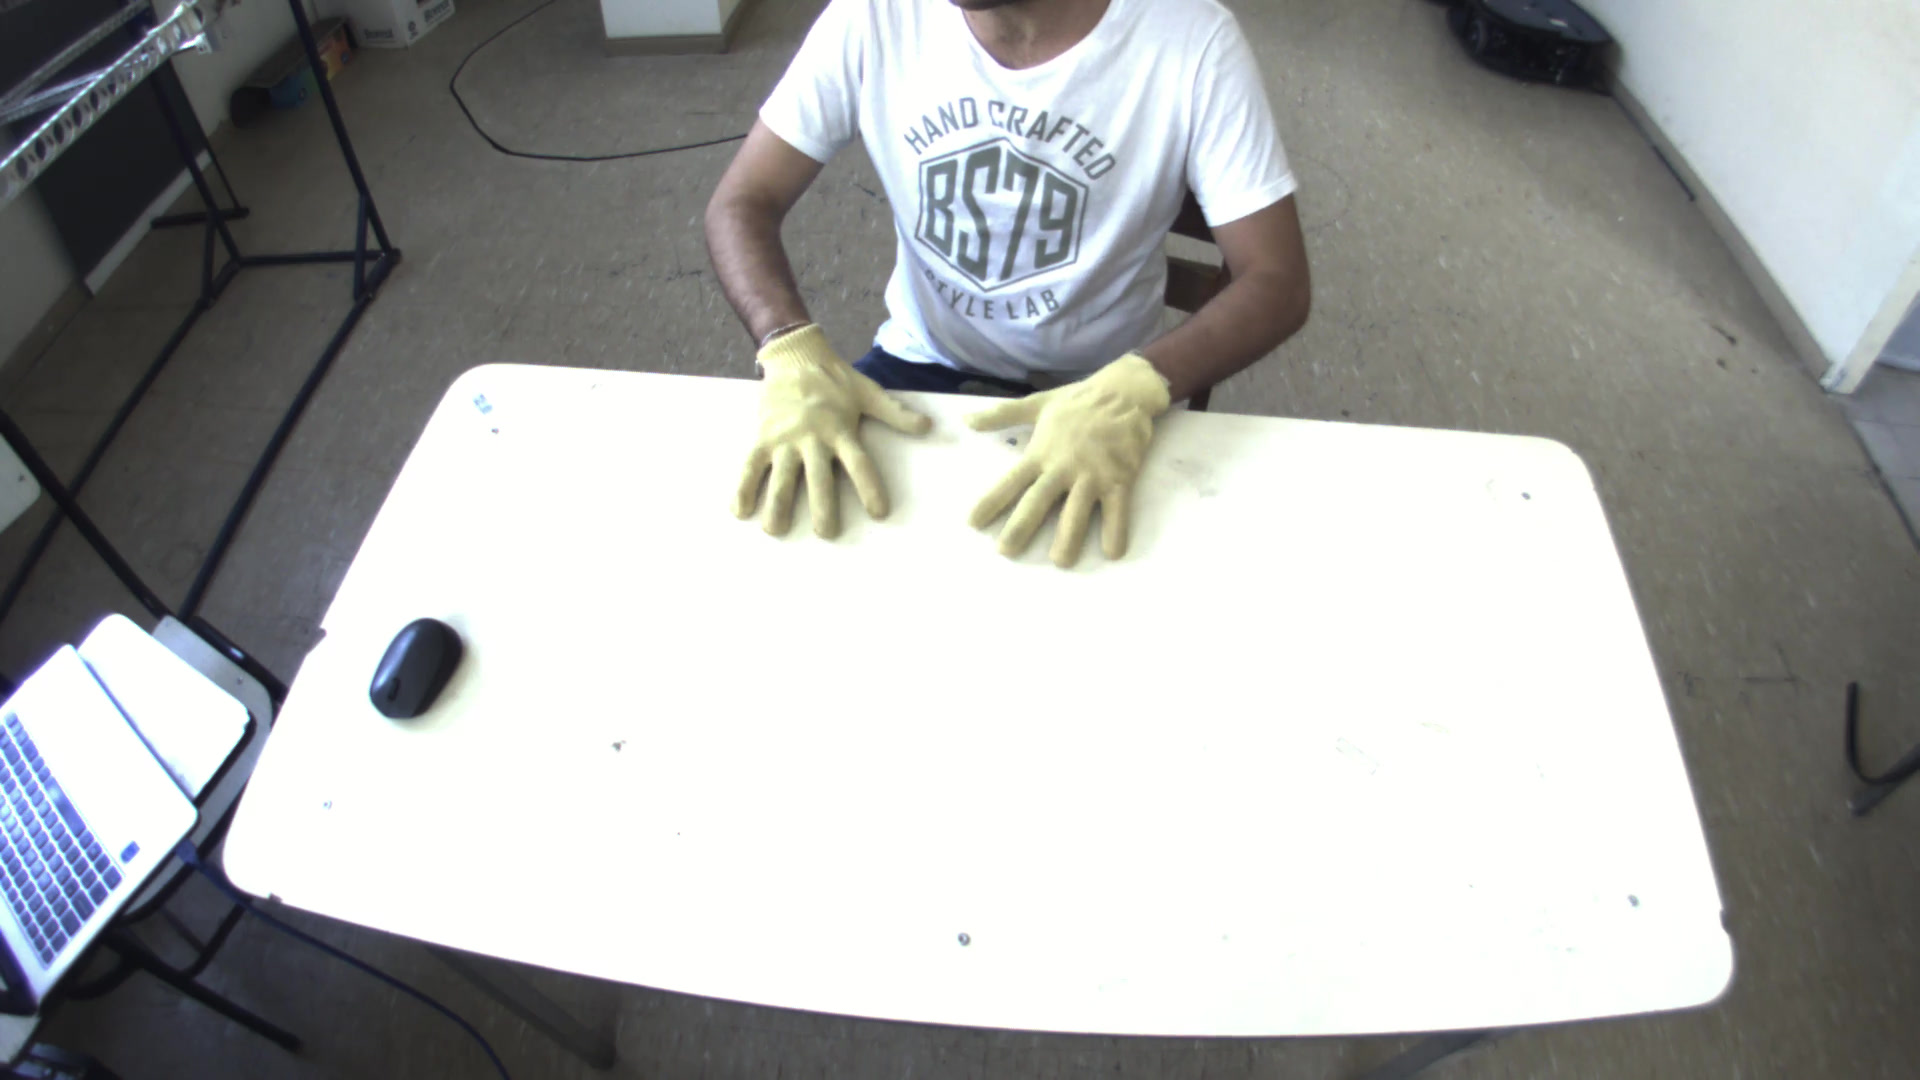hand: (719, 307, 938, 547), (959, 342, 1179, 579)
